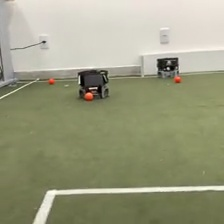ball: (83, 90, 94, 101), (47, 76, 56, 86), (174, 75, 182, 83)
goal: (138, 47, 224, 78)
robot: (75, 68, 111, 99), (155, 55, 180, 79)
